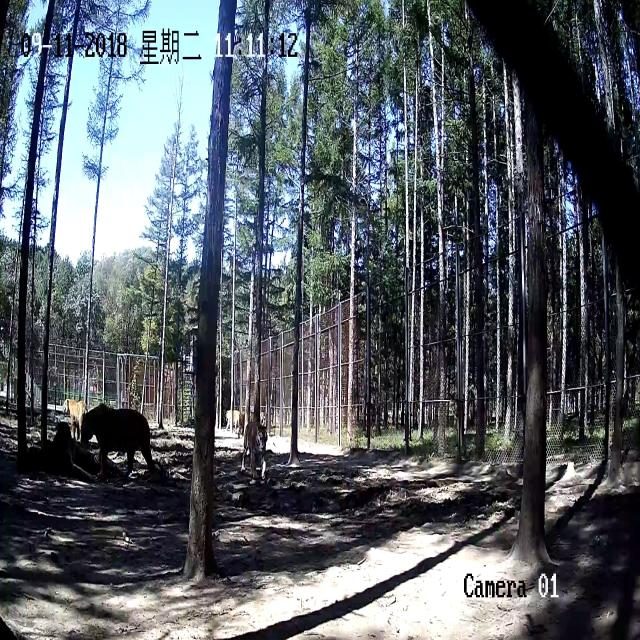Tiger: (79, 402, 159, 478), (7, 416, 77, 479), (239, 418, 269, 486), (63, 395, 87, 441)
